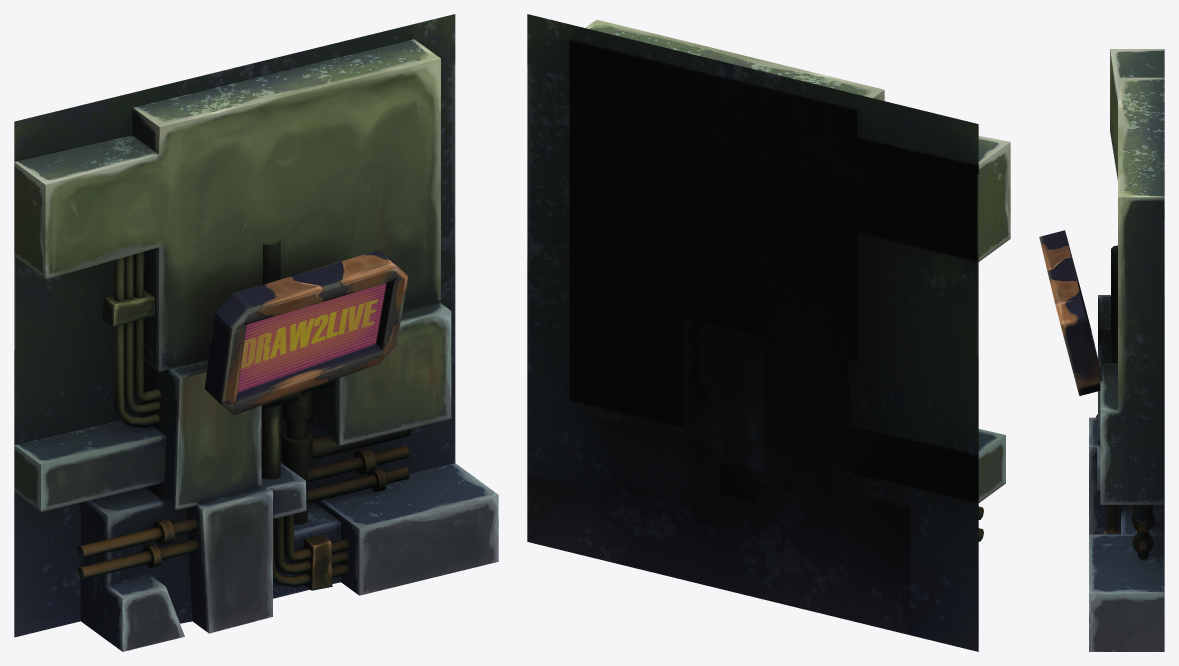
The model's file is menu.fbx.
3 views of the same model, side by side, from view 1: azimuth 30°, elevation 25°; view 2: azimuth 150°, elevation 25°; view 3: azimuth 270°, elevation 25° (orthographic). The views are drawn at different scales.
Visible parts, largest first — view 1: wall_low, back_low, banner_low, pipes02_low, straps_low; view 2: back_low, wall_low; view 3: wall_low, banner_low, pipes02_low.
Part boxes in pixels (x1,y1,x2,y2): wall_low: [14, 39, 498, 651]; back_low: [14, 14, 455, 637]; banner_low: [204, 250, 408, 414]; pipes02_low: [77, 241, 411, 586]; straps_low: [103, 290, 332, 590]; back_low: [527, 14, 978, 651]; wall_low: [585, 19, 1010, 502]; wall_low: [1089, 49, 1164, 651]; banner_low: [1039, 230, 1102, 395]; pipes02_low: [1096, 245, 1154, 560].
Bounding box in the file's own units: 2.89 × 3.24 × 0.8163.
